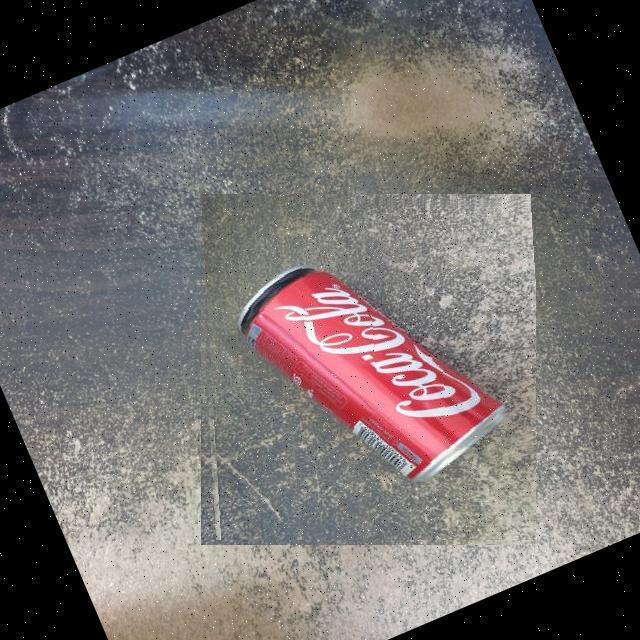recyclable: (196, 198, 536, 540)
